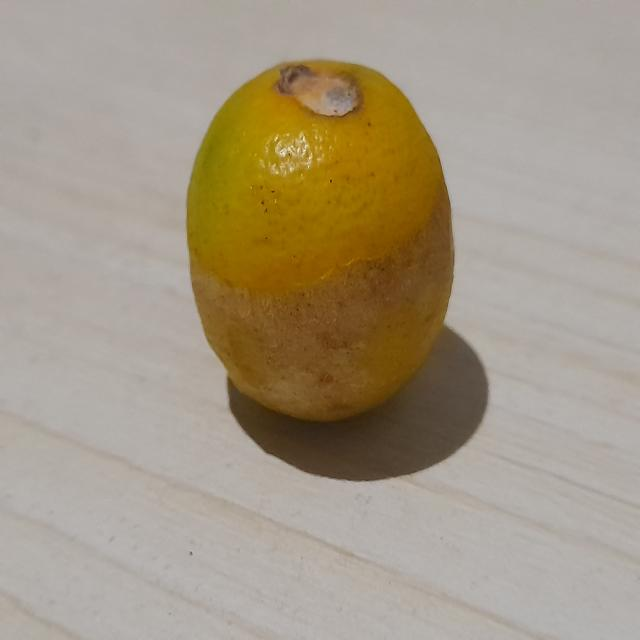greening: (181, 47, 467, 430)
